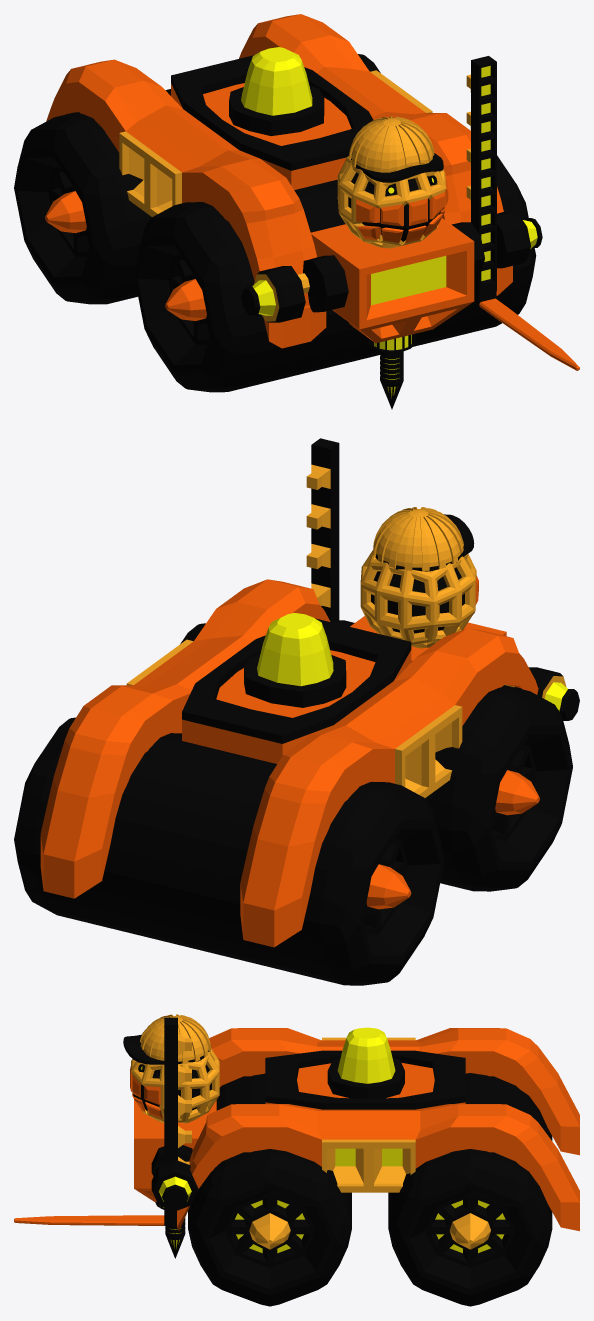
Rendered from MC_HeavyMinion.glb.
The picture shows the model from 3 angles, top to bottom: view 1: azimuth 30°, elevation 25°; view 2: azimuth 150°, elevation 25°; view 3: azimuth 270°, elevation 25°; orthographic projection. The views are drawn at different scales.
Parts seen in each view (by area): view 1: Cube.001, Cube.004, Cube.005, Cube.002, Cube, Icosphere.005, Cube.003; view 2: Cube.001, Cube.005, Cube.004, Cube, Cube.002, Icosphere.005; view 3: Cube.001, Cube.005, Cube.004, Cube.002, Cube, Icosphere.005, Cube.003.
Part boxes in pixels (x1,y1,x2,y2): Cube.001: (46, 14, 542, 348); Cube.004: (134, 155, 536, 392); Cube.005: (14, 54, 380, 304); Cube.002: (466, 56, 579, 370); Cube: (337, 156, 448, 248); Icosphere.005: (349, 116, 443, 182); Cube.003: (368, 333, 415, 409); Cube.001: (40, 579, 579, 947); Cube.005: (14, 717, 444, 985); Cube.004: (180, 623, 572, 891); Cube: (360, 550, 478, 648); Cube.002: (306, 438, 339, 622); Icosphere.005: (373, 507, 474, 571); Cube.001: (134, 1027, 579, 1231); Cube.005: (388, 1073, 552, 1306); Cube.004: (188, 1073, 351, 1306); Cube.002: (14, 1017, 191, 1225); Cube: (130, 1048, 219, 1123); Icosphere.005: (123, 1014, 210, 1064); Cube.003: (155, 1202, 185, 1258).
Bounding box in the file's own units: 13.19 × 12.31 × 23.03.
